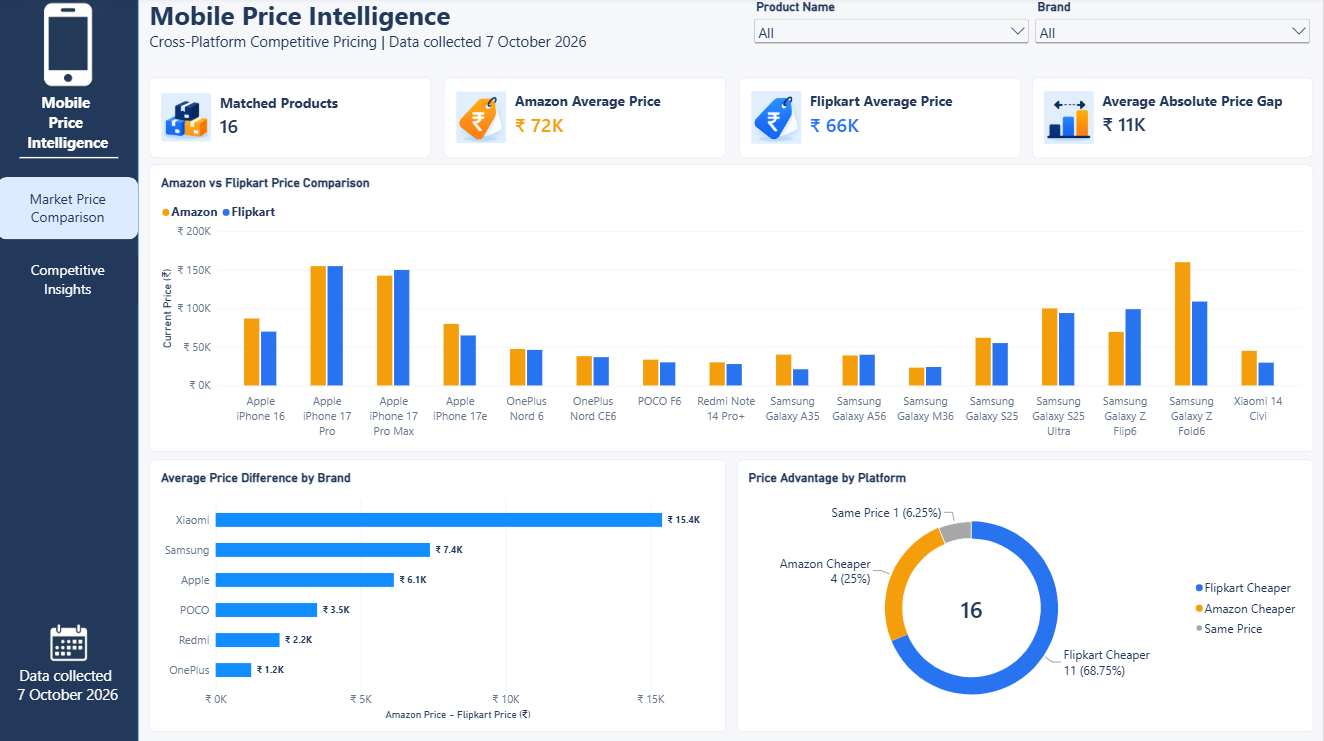

This screenshot's page, from the dashboard's own definition file:
{"tool":"powerbi","page":{"name":"Market Price Comparison","canvas":[1920,1080],"ordinal":0},"visuals":[{"type":"textbox","box":[220.8,0,854.2,99.5],"z":0},{"type":"cardVisual","fields":{"Data":["MeasuresTable.Matched Products"]},"box":[220.8,115.8,407.2,117.6],"z":1000},{"type":"cardVisual","fields":{"Data":["MeasuresTable.Amazon Average Price"]},"box":[647.9,115.8,407.2,117.6],"z":2000},{"type":"cardVisual","fields":{"Data":["MeasuresTable.Average Absolute Price Gap"]},"box":[1498.4,115.8,407.2,117.6],"z":3000},{"type":"cardVisual","fields":{"Data":["MeasuresTable.Flipkart Average Price"]},"box":[1074.9,115.8,407.2,117.6],"z":4000},{"type":"clusteredColumnChart","title":"Amazon vs Flipkart Price Comparison","fields":{"Category":["DimProduct.ProductName"],"Y":["Sum(FactProductPlatform.CurrentPrice)"],"Series":["DimPlatform.PlatformName"]},"box":[220.8,242.5,1684.8,416.2],"z":5000},{"type":"clusteredBarChart","title":"Average Price Difference by Brand","fields":{"Category":["DimProduct.BrandName"],"Y":["MeasuresTable.Average Price Gap"]},"box":[220.8,669.6,834.3,394.5],"z":9000},{"type":"slicer","fields":{"Values":["DimProduct.BrandName"]},"box":[1498.4,3.6,407.2,95.9],"z":10000},{"type":"slicer","fields":{"Values":["DimProduct.ProductName"]},"box":[1091.2,3.6,407.2,95.9],"z":11000},{"type":"shape","box":[0,0,204.5,1080.4],"z":11001},{"type":"image","box":[48.9,0,108.6,137.5],"z":11002},{"type":"textbox","box":[0,137.5,204.5,112.2],"z":11003},{"type":"shape","box":[32.6,209.9,143,45.2],"z":11004},{"type":"actionButton","box":[0,260.6,204.5,90.5],"z":11005},{"type":"actionButton","box":[0,363.7,204.5,90.5],"z":11006},{"type":"image","box":[45.2,904.8,117.6,61.5],"z":11007},{"type":"textbox","box":[0,966.4,204.5,65.1],"z":11008},{"type":"donutChart","title":"Price Advantage by Platform","fields":{"Category":["PriceAdvantage.CheaperPlatform"],"Y":["MeasuresTable.Product Count"]},"box":[1071.3,669.6,834.3,394.5],"z":11009}]}

Visuals, with their boxes on the page's 1920x1080 design canvas (x1, y1, x2, y2). These are canvas units, not pixel positions in the 1324x741 screenshot, which may show the page scaled, cropped or inside an application window:
textbox: 221,0,1075,100
cardVisual - MeasuresTable.Matched Products: 221,116,628,233
cardVisual - MeasuresTable.Amazon Average Price: 648,116,1055,233
cardVisual - MeasuresTable.Average Absolute Price Gap: 1498,116,1906,233
cardVisual - MeasuresTable.Flipkart Average Price: 1075,116,1482,233
"Amazon vs Flipkart Price Comparison" clusteredColumnChart: 221,242,1906,659
"Average Price Difference by Brand" clusteredBarChart: 221,670,1055,1064
slicer - DimProduct.BrandName: 1498,4,1906,100
slicer - DimProduct.ProductName: 1091,4,1498,100
shape: 0,0,204,1080
image: 49,0,158,138
textbox: 0,138,204,250
shape: 33,210,176,255
actionButton: 0,261,204,351
actionButton: 0,364,204,454
image: 45,905,163,966
textbox: 0,966,204,1032
"Price Advantage by Platform" donutChart: 1071,670,1906,1064
